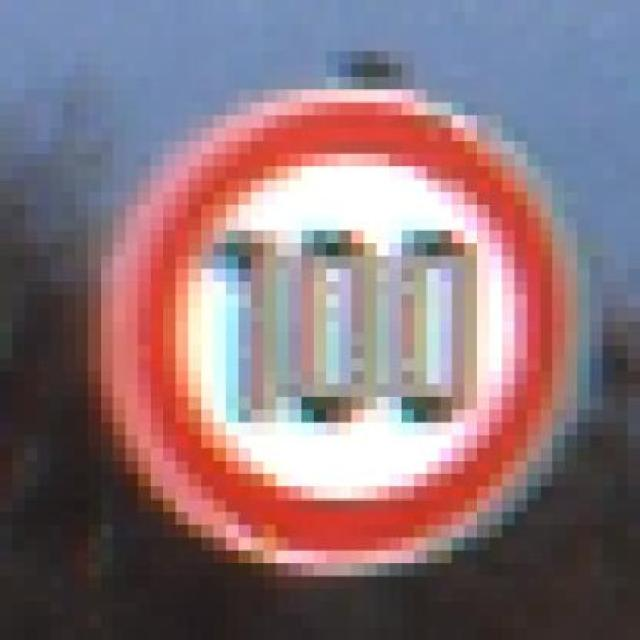forb_speed_over_100: (116, 96, 561, 567)
